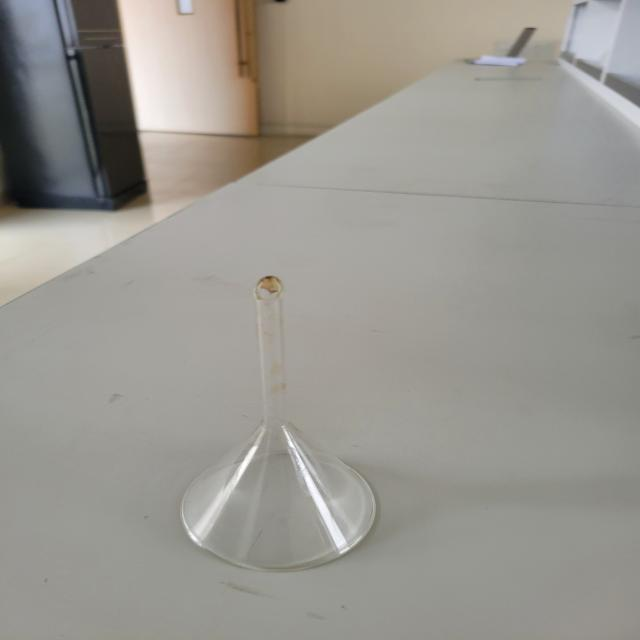Funnel: (142, 246, 440, 596)
